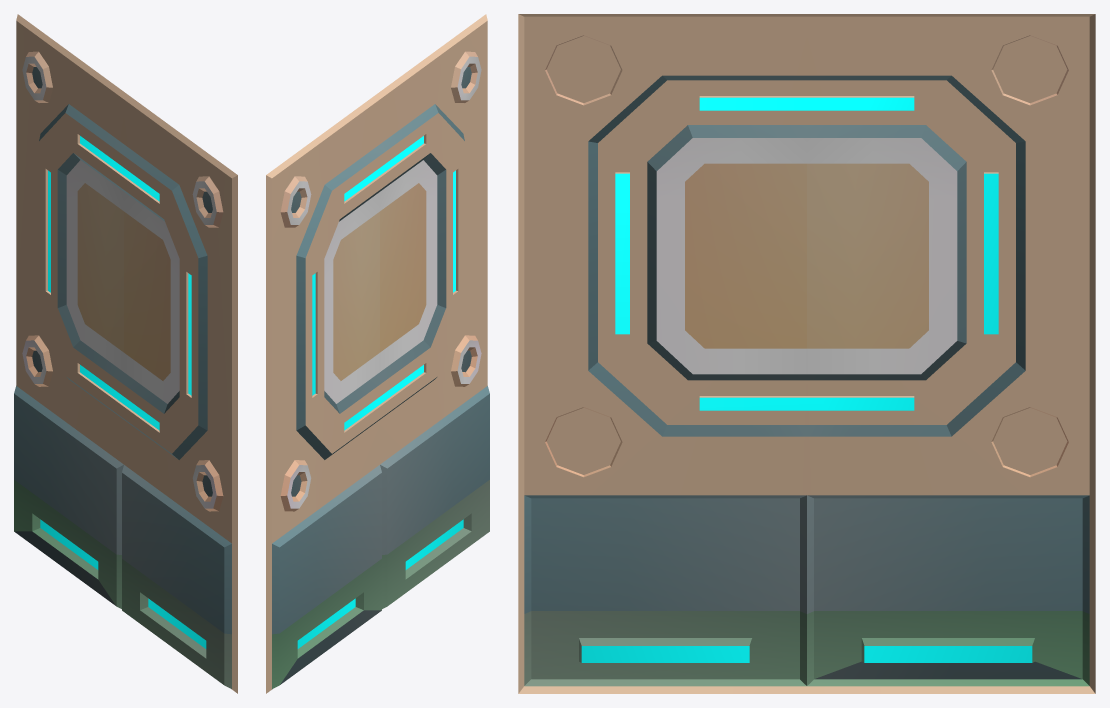
File: R_Wall_1.fbx
3 views of the same model, side by side, from view 1: azimuth 30°, elevation 25°; view 2: azimuth 150°, elevation 25°; view 3: azimuth 270°, elevation 25° (orthographic). The views are drawn at different scales.
Visible parts, largest first — view 1: R_Wall_1; view 2: R_Wall_1; view 3: R_Wall_1.
Part boxes in pixels (left/top/right/bottom): R_Wall_1: left=14, top=14, right=237, bottom=693; R_Wall_1: left=266, top=14, right=489, bottom=693; R_Wall_1: left=518, top=14, right=1095, bottom=693.
Bounding box in the file's own units: 4.82 × 260 × 200.
